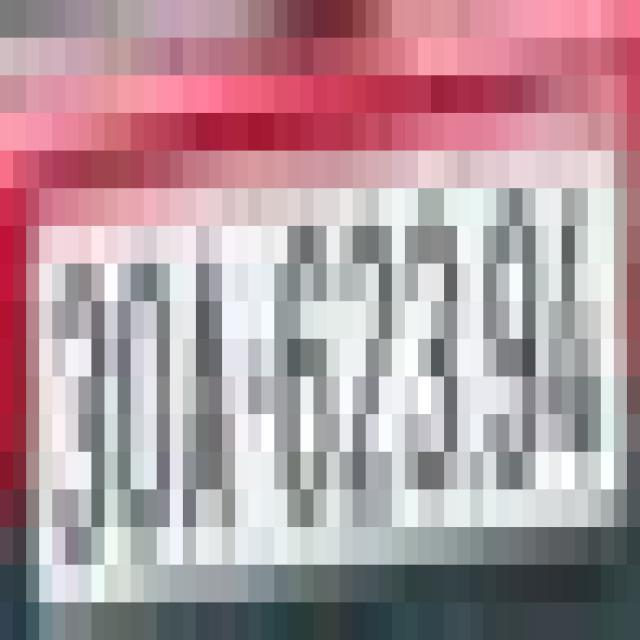0: (118, 226, 170, 565)
2: (339, 188, 392, 527)
3: (39, 264, 105, 564), (405, 188, 457, 490)
4: (548, 188, 600, 490)
6: (274, 226, 340, 527)
9: (484, 188, 536, 490)
A: (183, 226, 235, 565)
